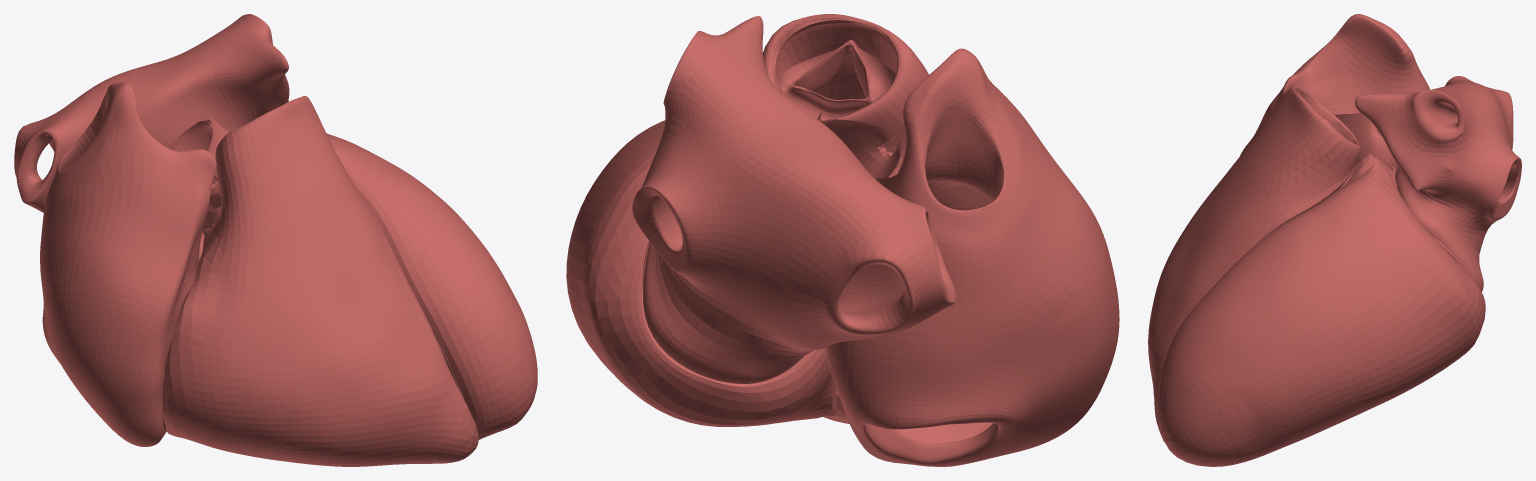
File: heart.glb
3 views of the same model, side by side, from view 1: azimuth 30°, elevation 25°; view 2: azimuth 150°, elevation 25°; view 3: azimuth 270°, elevation 25° (orthographic). The views are drawn at different scales.
Parts seen in each view (by area): view 1: heart; view 2: heart; view 3: heart.
Part boxes in pixels (x1,y1,x2,y2): heart: (14, 14, 537, 466); heart: (566, 14, 1119, 466); heart: (1148, 14, 1521, 466).
Size of the model in its own units: 0.1244 by 0.1054 by 0.1052.
